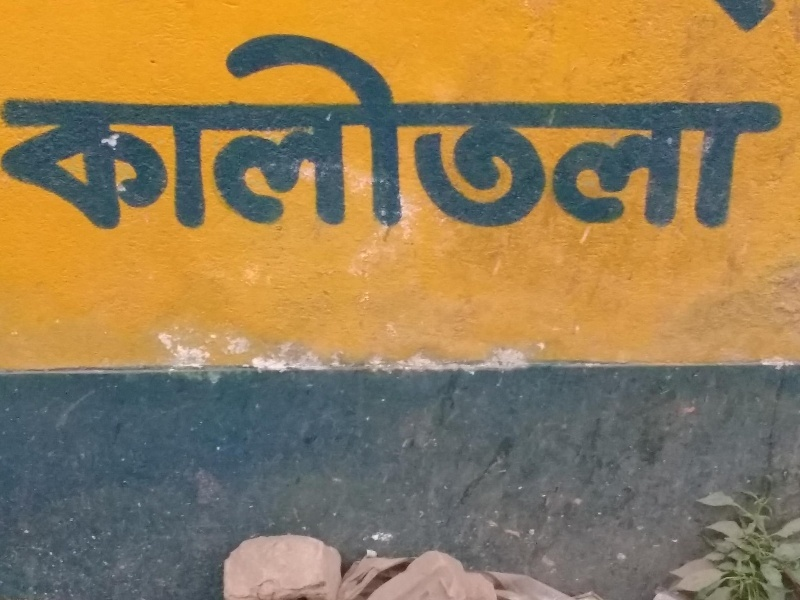text: (1, 26, 16, 248), (17, 26, 32, 248), (33, 26, 48, 248), (49, 26, 64, 248), (65, 26, 80, 248), (81, 26, 96, 248), (97, 26, 112, 248), (113, 26, 128, 248), (129, 26, 144, 248), (145, 26, 160, 248), (161, 26, 176, 248), (177, 26, 192, 248), (193, 26, 208, 248), (209, 26, 224, 248), (225, 26, 240, 248), (241, 26, 256, 248), (257, 26, 272, 248), (273, 26, 288, 248), (289, 26, 304, 248), (305, 26, 320, 248), (321, 26, 336, 248), (337, 26, 352, 248), (353, 26, 368, 248), (369, 26, 384, 248), (385, 26, 400, 248), (401, 26, 416, 248), (417, 26, 432, 248), (433, 26, 448, 248), (449, 26, 464, 248), (465, 26, 480, 248), (481, 26, 496, 248), (497, 26, 512, 248), (513, 26, 528, 248), (529, 26, 544, 248), (545, 26, 560, 248), (561, 26, 576, 248), (577, 26, 592, 248), (593, 26, 608, 248), (609, 26, 624, 248), (625, 26, 640, 248), (641, 26, 656, 248), (657, 26, 672, 248), (673, 26, 688, 248), (689, 26, 704, 248), (705, 26, 720, 248), (721, 26, 736, 248), (737, 26, 752, 248), (753, 26, 768, 248), (769, 26, 784, 248), (721, 1, 736, 35), (737, 1, 752, 35), (753, 1, 768, 35), (769, 1, 781, 35), (712, 1, 720, 35)
